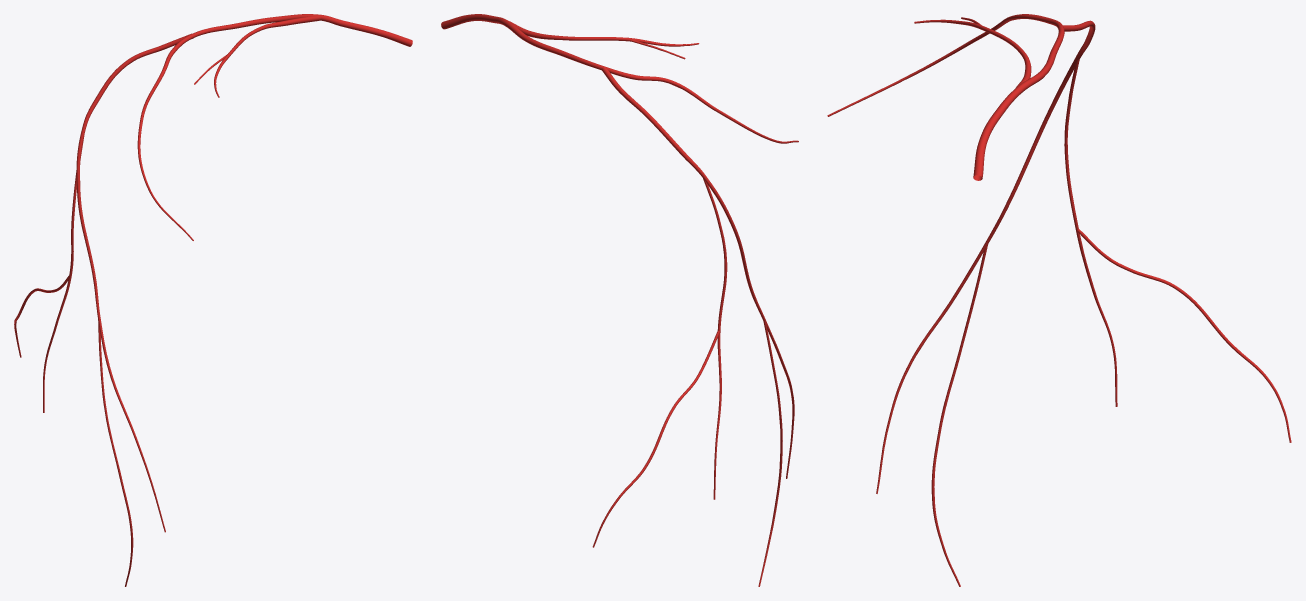
File: circulatorio-superior-phrenic-arteries.glb
3 views of the same model, side by side, from view 1: azimuth 30°, elevation 25°; view 2: azimuth 150°, elevation 25°; view 3: azimuth 270°, elevation 25° (orthographic). The views are drawn at different scales.
Parts seen in each view (by area): view 1: Superior phrenic arteries; view 2: Superior phrenic arteries; view 3: Superior phrenic arteries.
Part boxes in pixels (x1=…): Superior phrenic arteries: x1=14, y1=14, x2=412, y2=586; Superior phrenic arteries: x1=441, y1=14, x2=798, y2=586; Superior phrenic arteries: x1=827, y1=14, x2=1291, y2=586.
Size of the model in its own units: 0.096 by 0.1465 by 0.0973.
